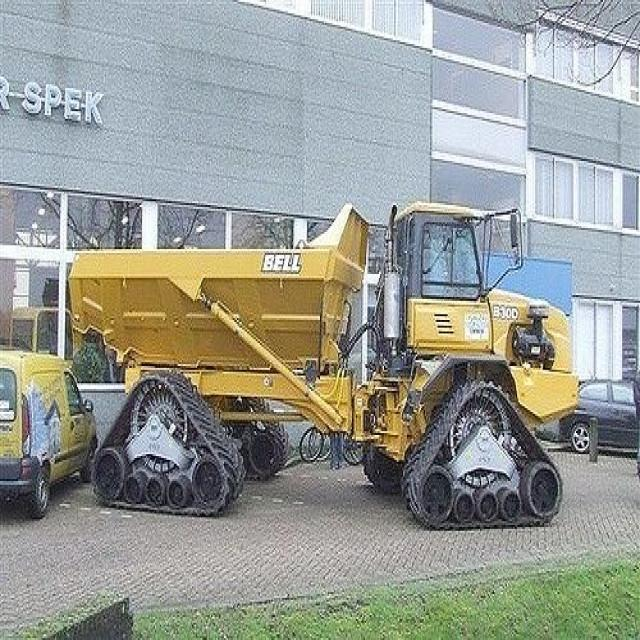dump_truck: (60, 176, 588, 560)
